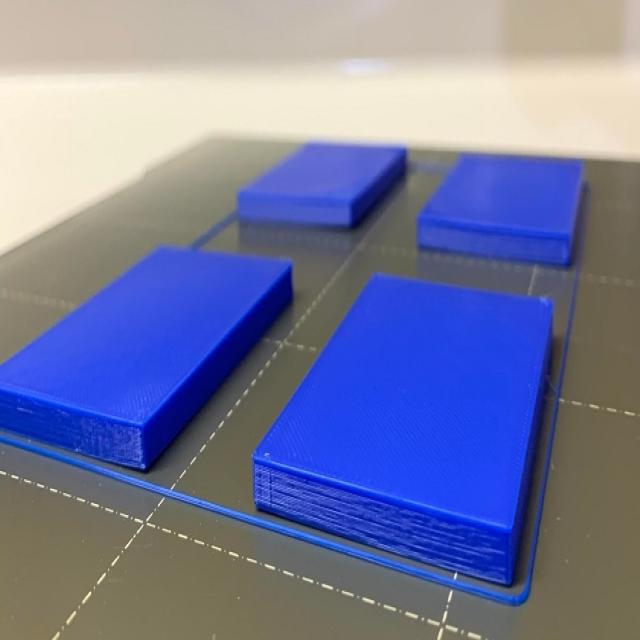Warping: (114, 450, 165, 480), (306, 211, 360, 238), (417, 233, 463, 261)
